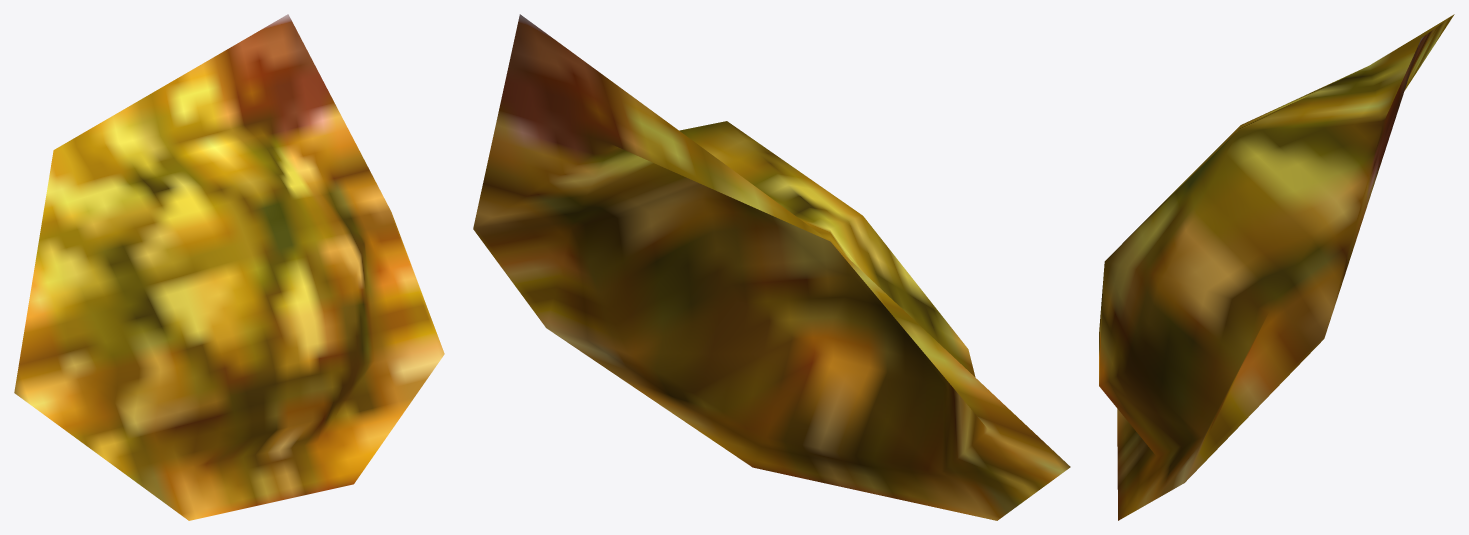
File: fg_durian_out.dae
The picture shows the model from 3 angles, left to right: view 1: azimuth 30°, elevation 25°; view 2: azimuth 150°, elevation 25°; view 3: azimuth 270°, elevation 25°; orthographic projection. The views are drawn at different scales.
Parts seen in each view (by area): view 1: fg_durian_out; view 2: fg_durian_out; view 3: fg_durian_out.
Boxes of the visible parts, x1,y1,x2,y2 form: fg_durian_out: (14,14,444,520); fg_durian_out: (473,14,1070,520); fg_durian_out: (1099,14,1454,520).
Bounding box in the file's own units: 17.12 × 15.72 × 9.87.
1 material, 1 textured.
